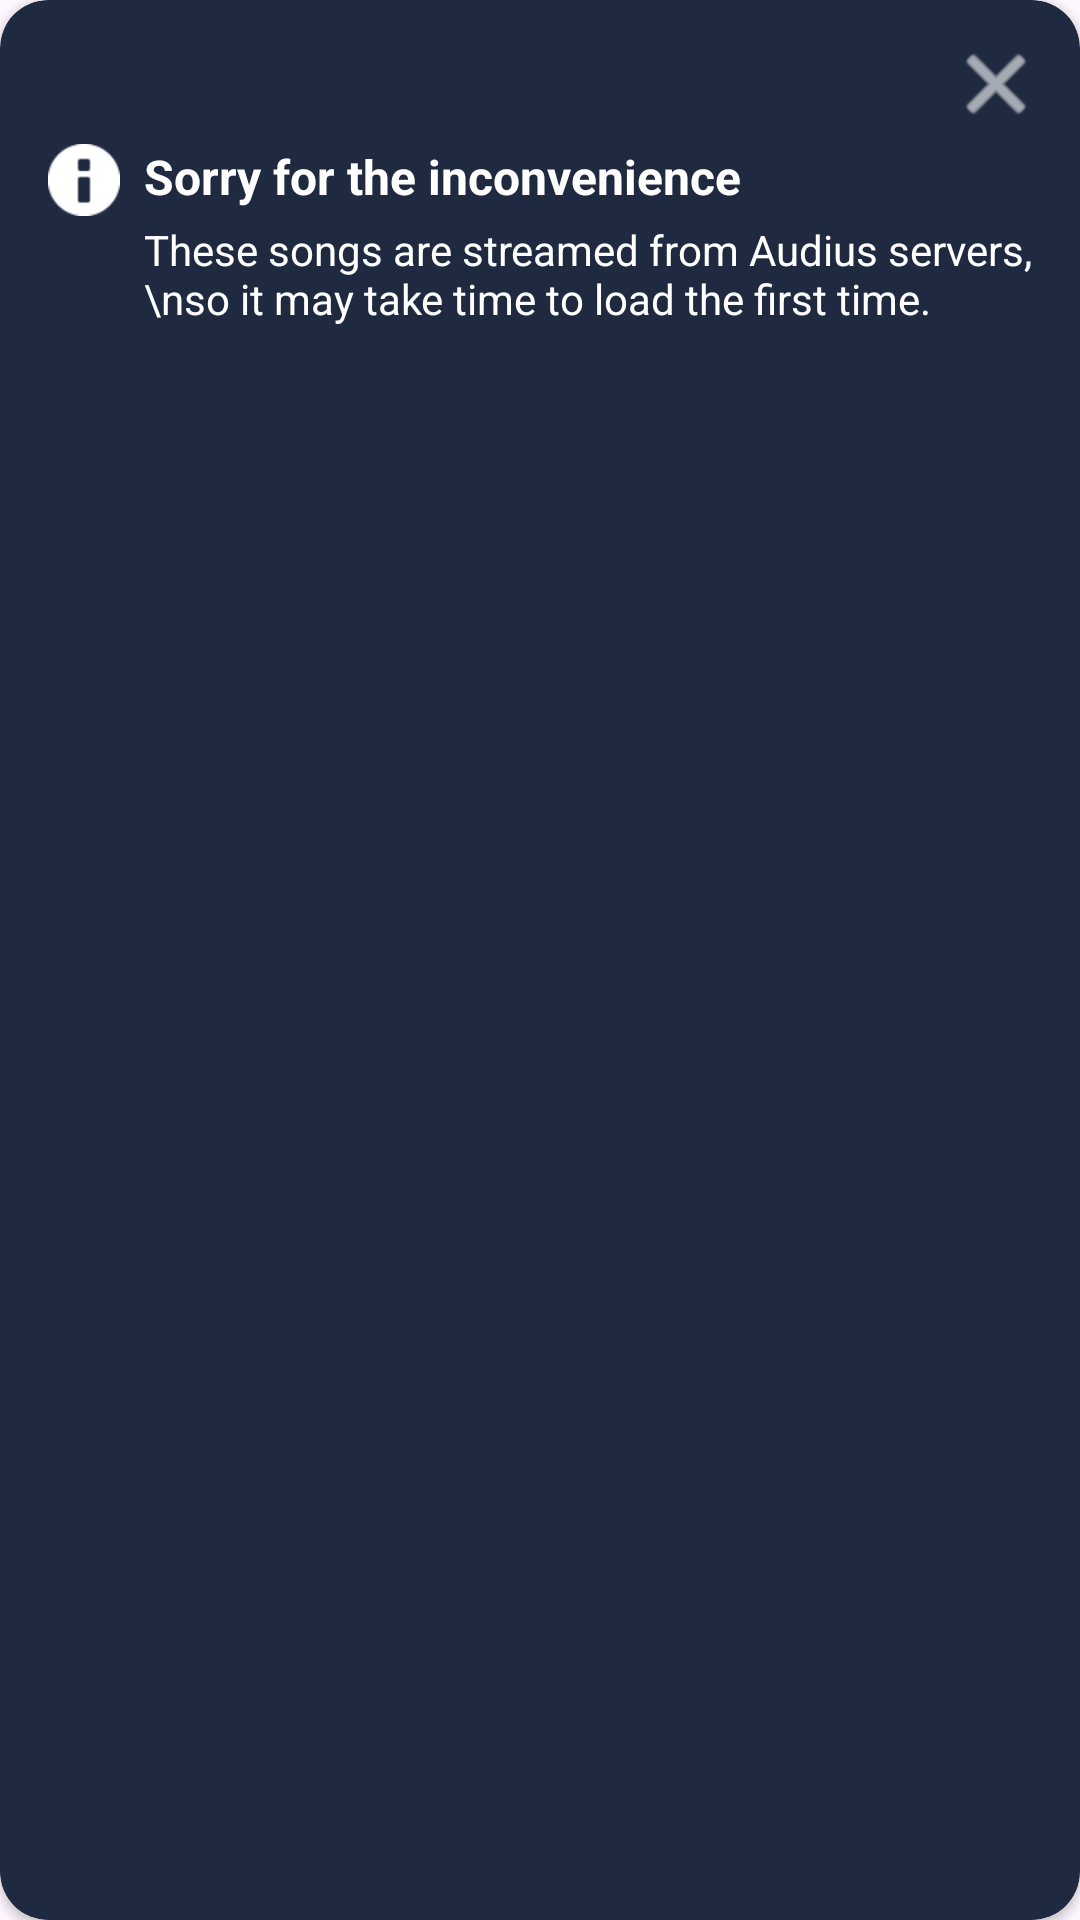

Where to tap for icons on this 1080 x 1920 app screen, as (x=x, y=y):
Close: (x=996, y=84)
info: (x=84, y=180)
